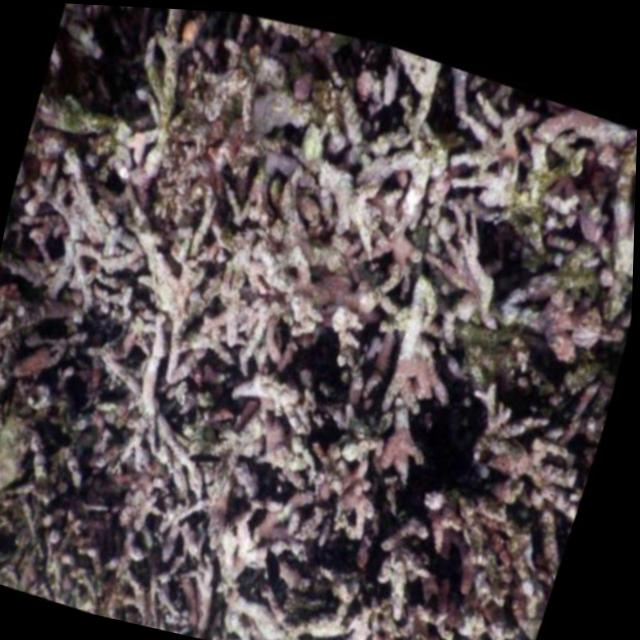Dead Coral: (0, 94, 564, 629)
